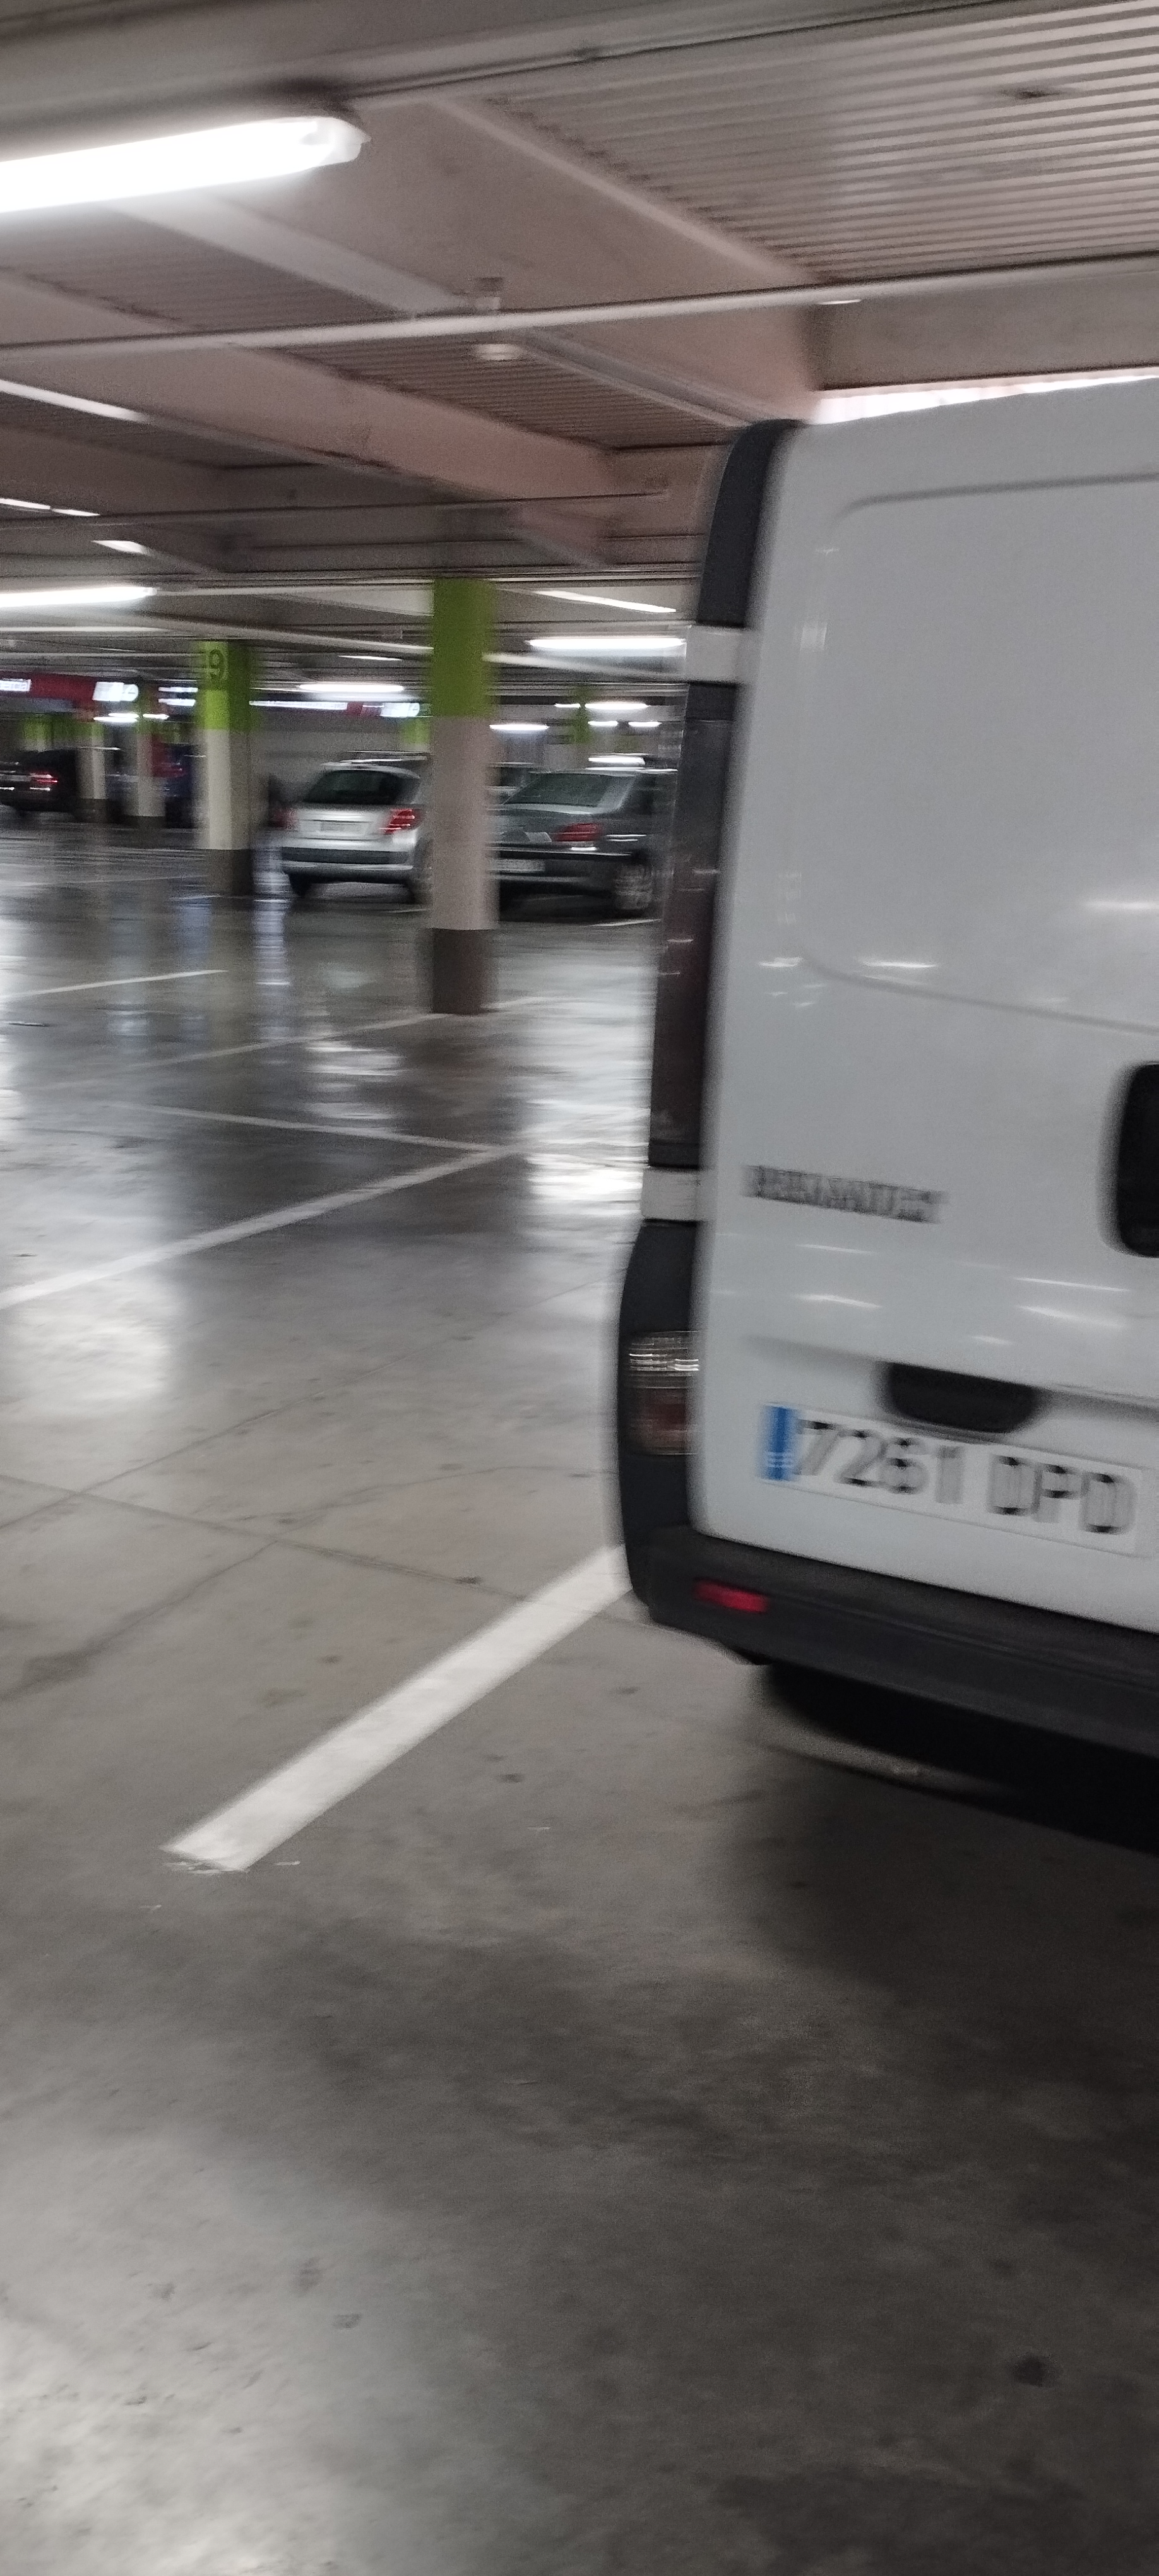Plate: (773, 1410, 1159, 1498)
